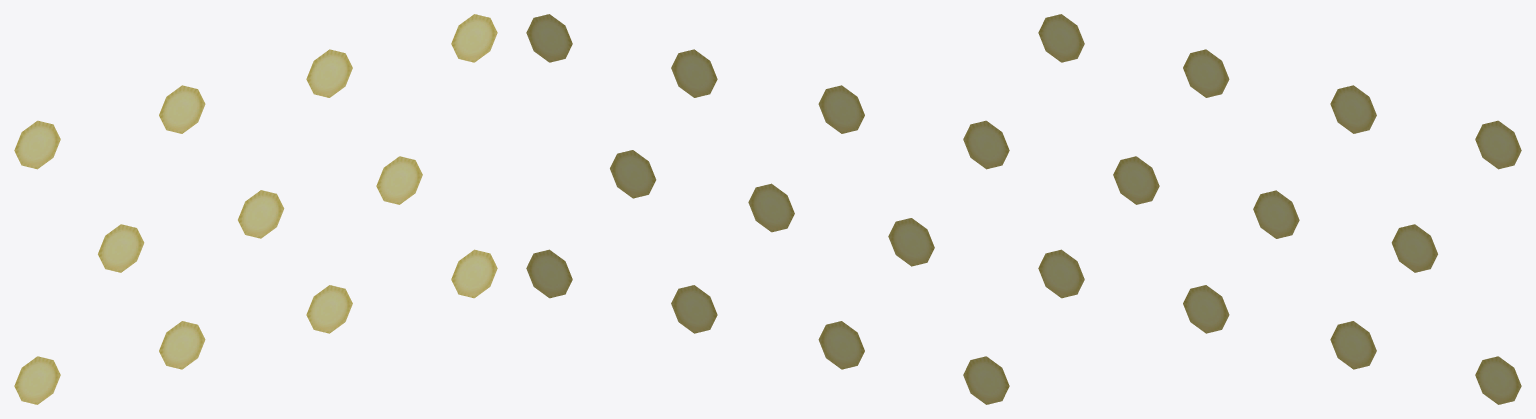
The model's file is corellian_corvette_engine_on_l1.fbx.
3 renders of one model, left to right at view 1: azimuth 30°, elevation 25°; view 2: azimuth 150°, elevation 25°; view 3: azimuth 330°, elevation 25°, orthographic.
Visible parts, largest first — view 1: mesh_node; view 2: mesh_node; view 3: mesh_node.
Part boxes in pixels (left/top/right/bottom): mesh_node: left=14, top=14, right=497, bottom=404; mesh_node: left=526, top=14, right=1009, bottom=404; mesh_node: left=1038, top=14, right=1521, bottom=404.
Bounding box in the file's own units: 70.11 × 39.41 × 1.09.
